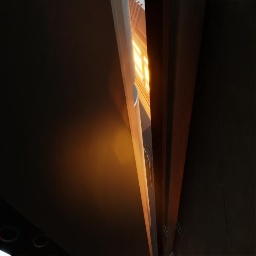EmergencyPhone ,: (143, 146, 154, 187)
